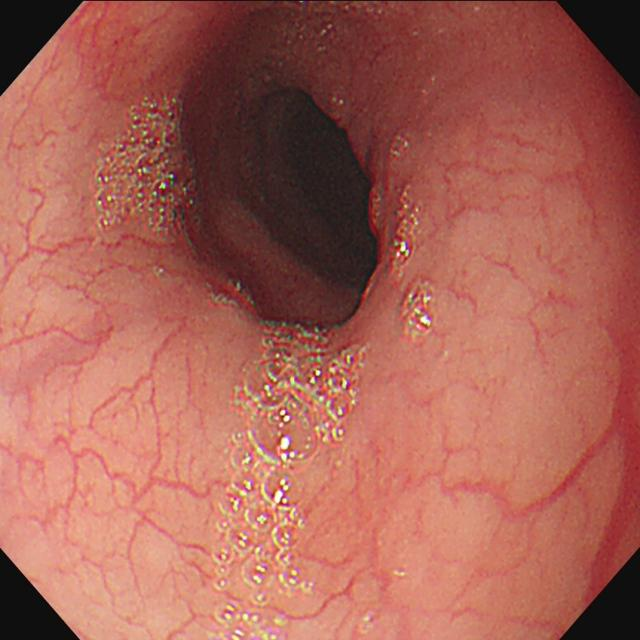E: (256, 89, 378, 286)
T: (212, 326, 371, 640), (96, 96, 200, 233), (387, 182, 421, 273), (404, 280, 438, 343)
